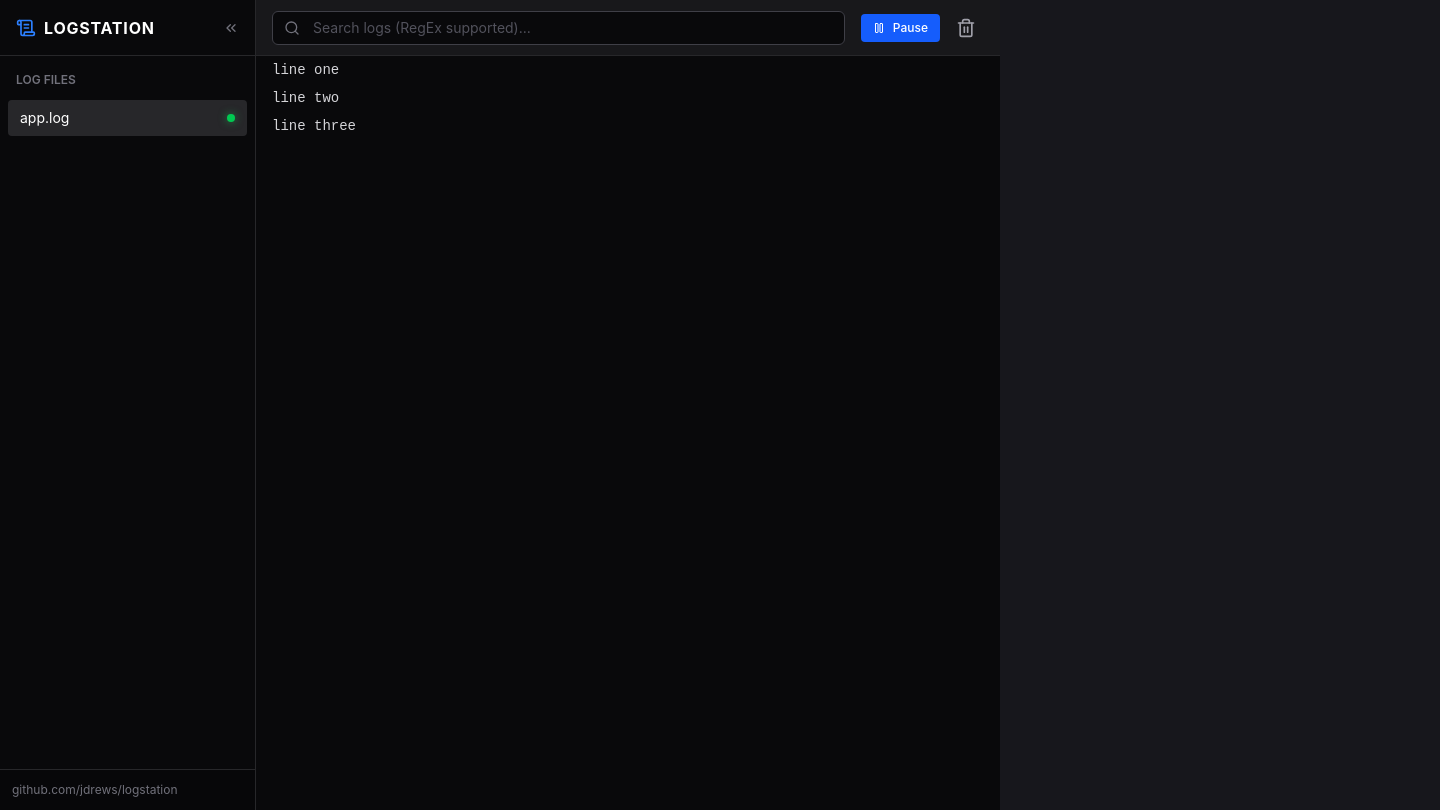
MainLayout › search › navigates to the next match with the Next button
This screenshot has width=1440, height=810.
Type "line" into the field with placeholder "Search logs (RegEx supported)...".
click(558, 28); type("line")  # box x1=272 y1=10 x2=845 y2=44
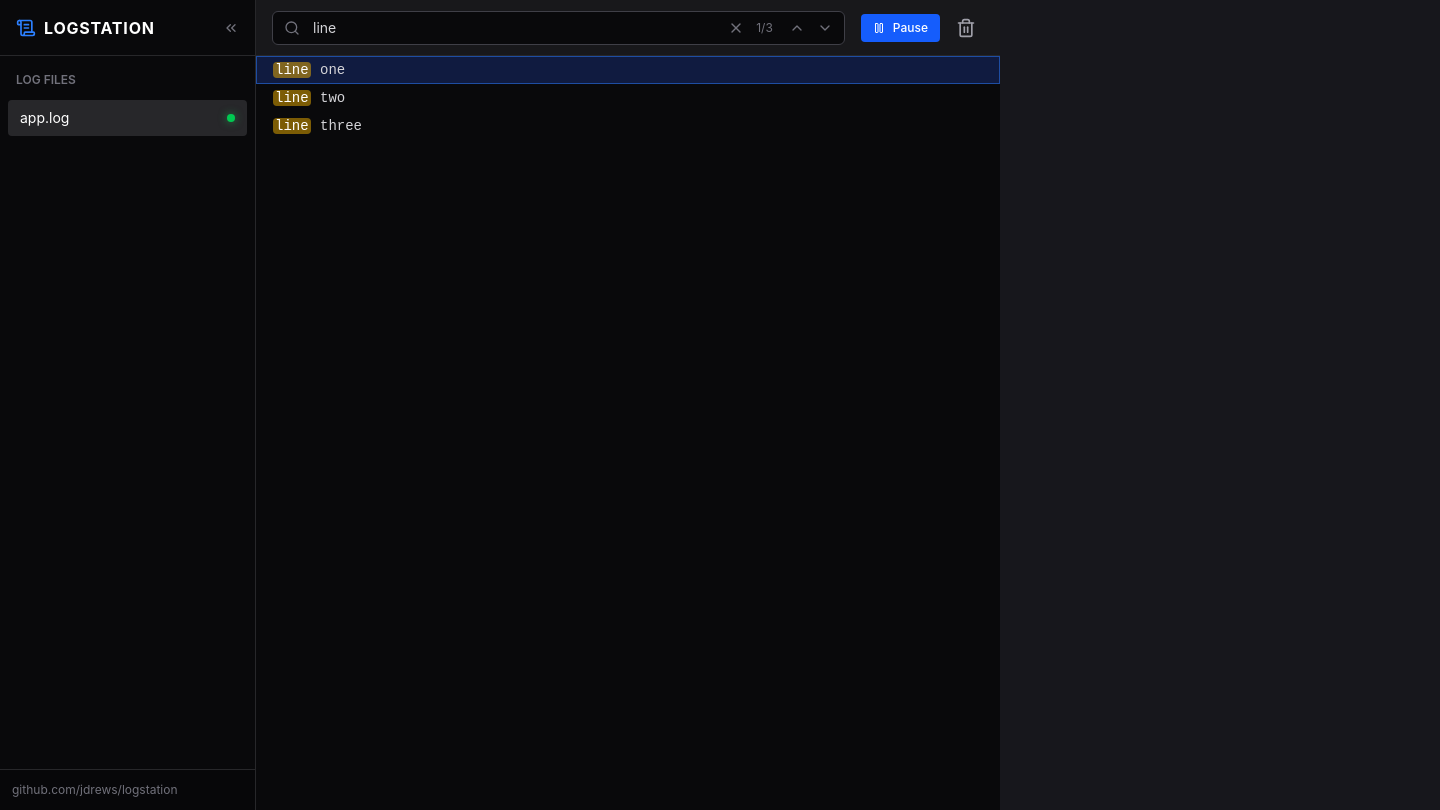
Click the button titled "Next Match".
click(825, 28)  # box x1=813 y1=16 x2=837 y2=40
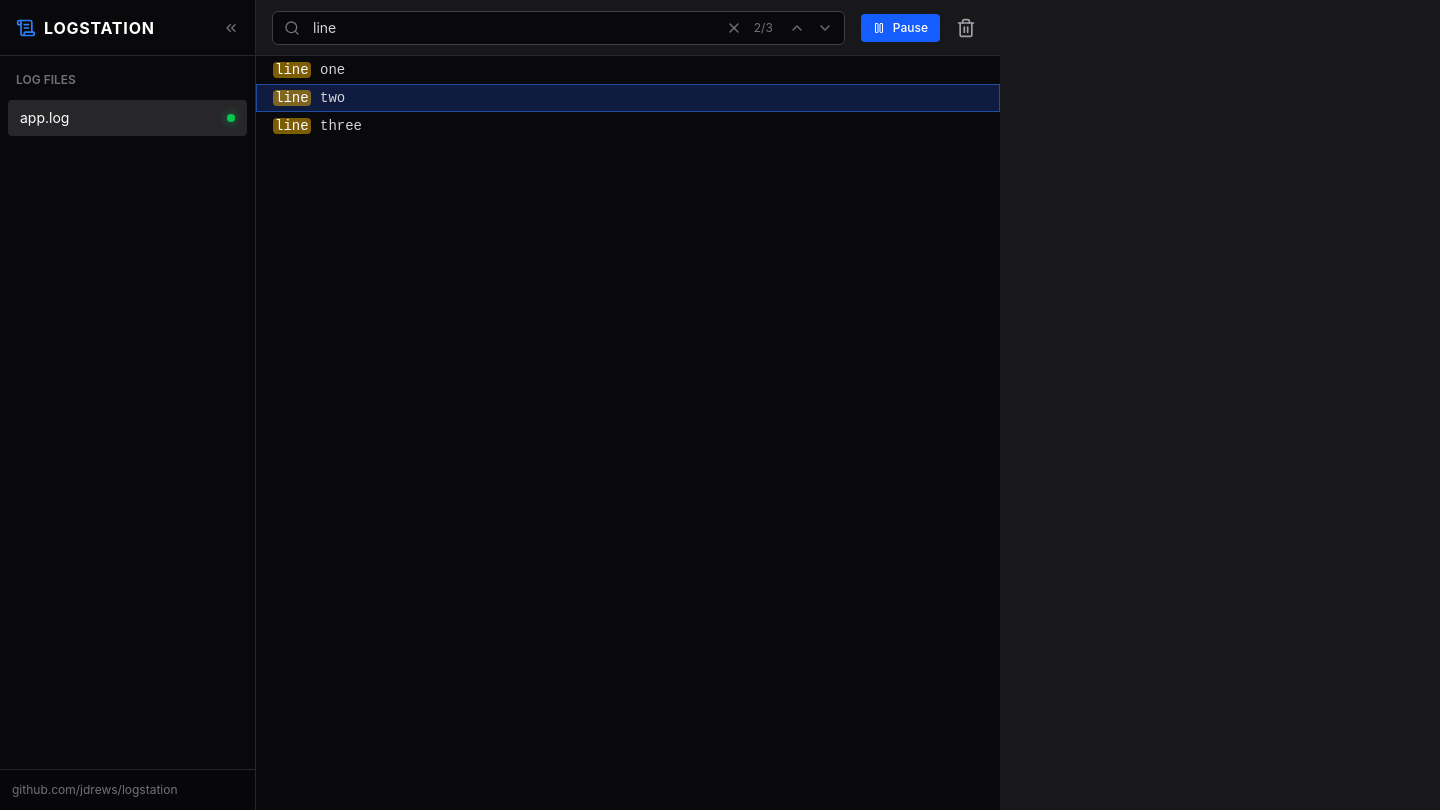
Expected: the text "2/3" is shown, x1=754 y1=20 x2=773 y2=36
